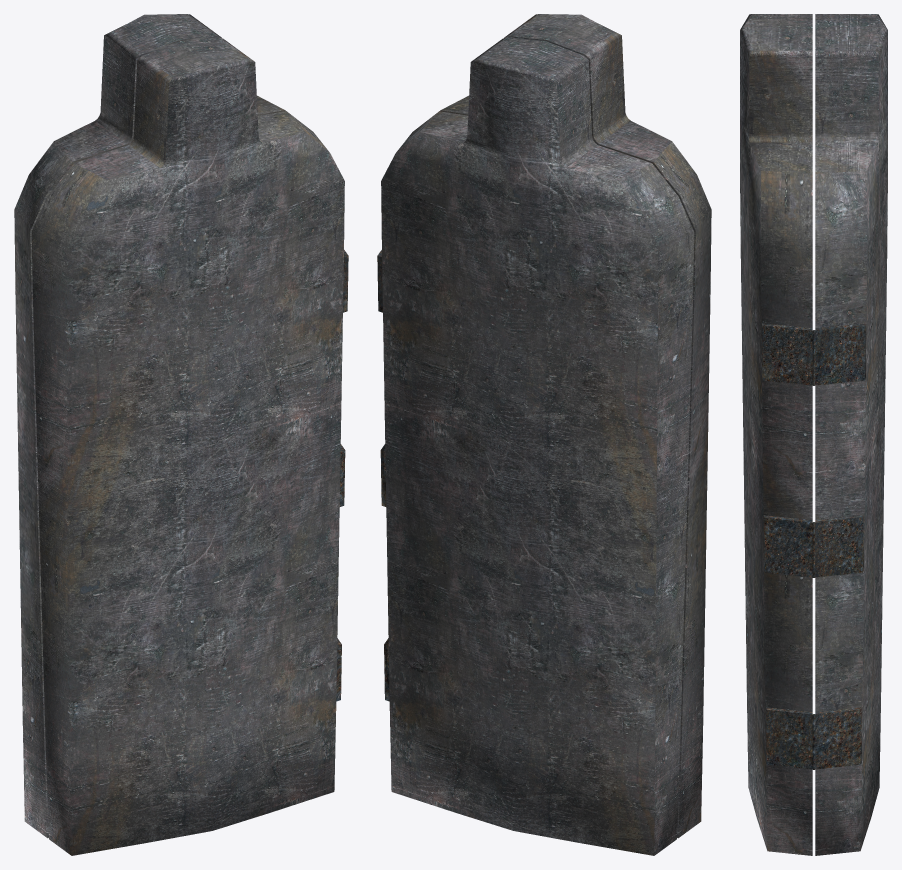
File: Body Case.fbx
The picture shows the model from 3 angles, left to right: view 1: azimuth 30°, elevation 25°; view 2: azimuth 150°, elevation 25°; view 3: azimuth 270°, elevation 25°; orthographic projection.
Parts seen in each view (by area): view 1: Body_Case7; view 2: Body_Case7; view 3: Body_Case7.
Boxes of the visible parts, bbox=[...] form: Body_Case7: bbox=[14, 14, 348, 855]; Body_Case7: bbox=[377, 14, 711, 855]; Body_Case7: bbox=[740, 14, 887, 855].
Size of the model in its own units: 1 by 2.42 by 0.4263.
2 materials, 2 textured.
